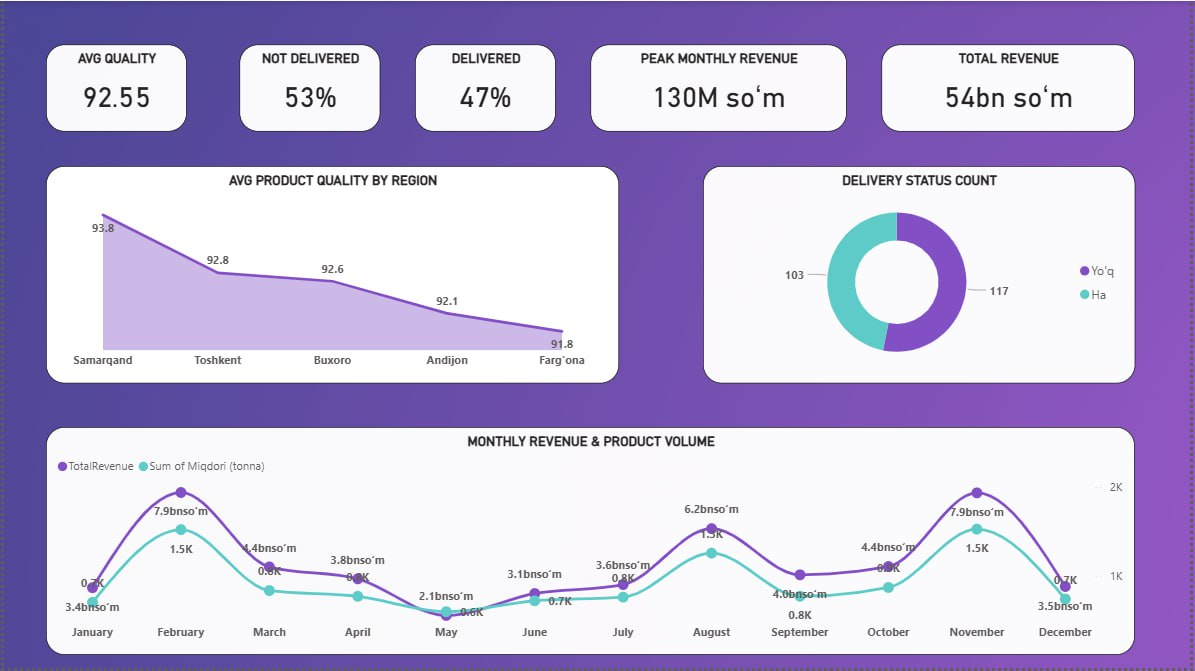

The dashboard page shown, as its layout file describes it:
{"tool":"powerbi","page":{"name":"Page 1","canvas":[1280,720],"ordinal":0},"visuals":[{"type":"card","title":"AVG QUALITY","fields":{"Values":["Avg(Beton.Mahsulot sifati (%))"]},"box":[45.3,47,152.2,93.9],"z":0},{"type":"areaChart","title":"AVG PRODUCT QUALITY BY REGION","fields":{"Category":["Beton.Hudud"],"Y":["Avg(Beton.Mahsulot sifati (%))"]},"box":[45.3,178.1,618.5,234.8],"z":1000},{"type":"donutChart","title":"DELIVERY STATUS COUNT","fields":{"Category":["Beton.Yetkazib berilganmi"],"Y":["CountNonNull(Beton.Yetkazib berilganmi)"]},"box":[754.6,178.1,466.3,234.8],"z":2000},{"type":"card","title":"NOT DELIVERED","fields":{"Values":["Beton.Not Delivered %"]},"box":[254.2,47,152.2,93.9],"z":3000},{"type":"card","title":"DELIVERED","fields":{"Values":["Beton.Delivered %"]},"box":[443.7,47,152.2,93.9],"z":4000},{"type":"lineChart","title":"MONTHLY REVENUE & PRODUCT VOLUME","fields":{"Category":["Beton.Sana.Variation.Date Hierarchy.Month"],"Y":["Beton.TotalRevenue"],"Y2":["Sum(Beton.Miqdori (tonna))"]},"box":[45.3,459.9,1175.6,246.1],"z":5000},{"type":"card","title":"PEAK MONTHLY REVENUE","fields":{"Values":["Beton.Max Monthly Revenue"]},"box":[633.1,47,276.9,93.9],"z":6000},{"type":"card","title":"TOTAL REVENUE","fields":{"Values":["Beton.TotalRevenue"]},"box":[947.2,47,273.6,93.9],"z":7000}]}

Visuals, with their boxes in screenshot pixels (x1, y1, x2, y2), scaled from the page's 1280x720 canvas onto the 1195x671 screenshot:
"AVG QUALITY" card: 42:44:184:131
"AVG PRODUCT QUALITY BY REGION" areaChart: 42:166:620:385
"DELIVERY STATUS COUNT" donutChart: 704:166:1140:385
"NOT DELIVERED" card: 237:44:379:131
"DELIVERED" card: 414:44:556:131
"MONTHLY REVENUE & PRODUCT VOLUME" lineChart: 42:429:1140:658
"PEAK MONTHLY REVENUE" card: 591:44:850:131
"TOTAL REVENUE" card: 884:44:1140:131
